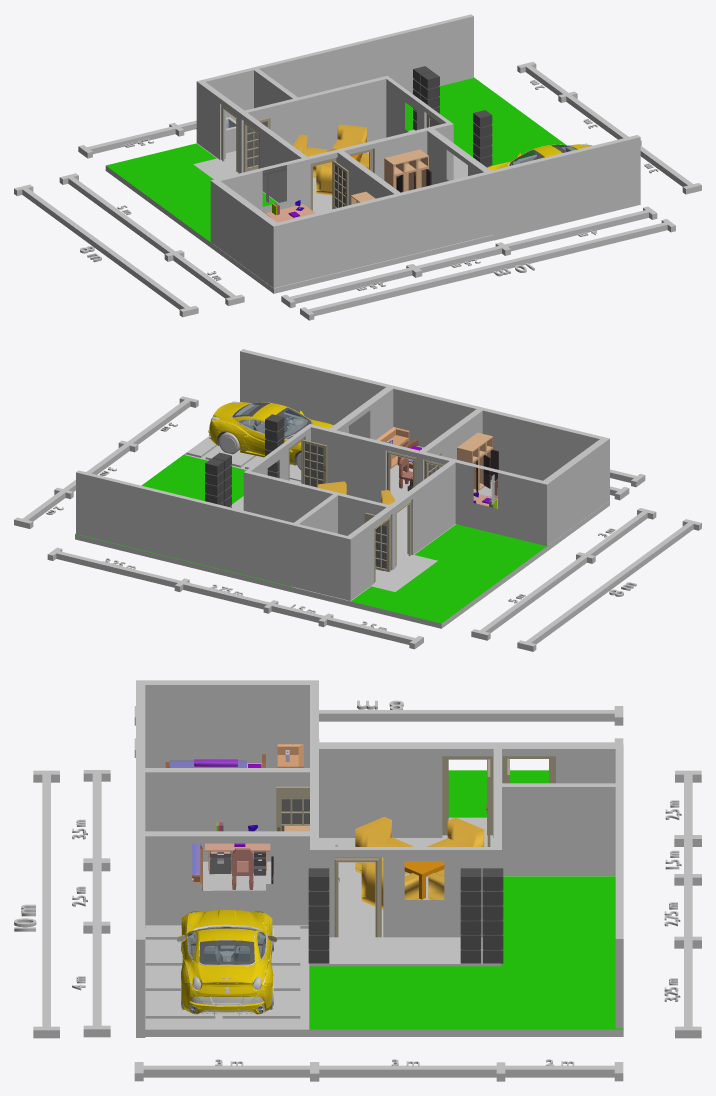
The model's file is percobaan t36 80 rumah baru baru.fbx.
3 renders of one model, top to bottom at view 1: azimuth 30°, elevation 25°; view 2: azimuth 150°, elevation 25°; view 3: azimuth 270°, elevation 25°, orthographic. The views are drawn at different scales.
Parts seen in each view (by area): view 1: Cube.001; view 2: Cube.001; view 3: Cube.001, DoorFrame.008.
Part boxes in pixels (left/top/right/bottom): Cube.001: left=14, top=14, right=701, bottom=320; Cube.001: left=14, top=349, right=701, bottom=651; Cube.001: left=33, top=680, right=701, bottom=1081; DoorFrame.008: left=442, top=756, right=492, bottom=835.
Size of the model in its own units: 7.41 by 0.9056 by 5.73.
